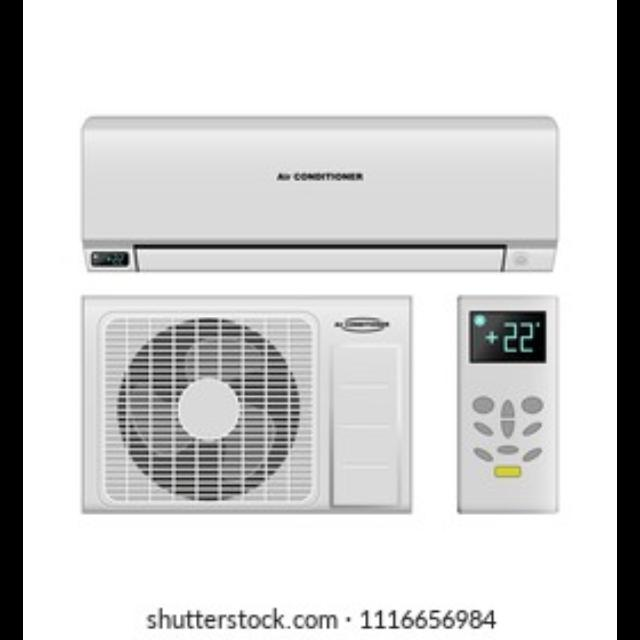TV-Remote-Control: (455, 293, 565, 517)
